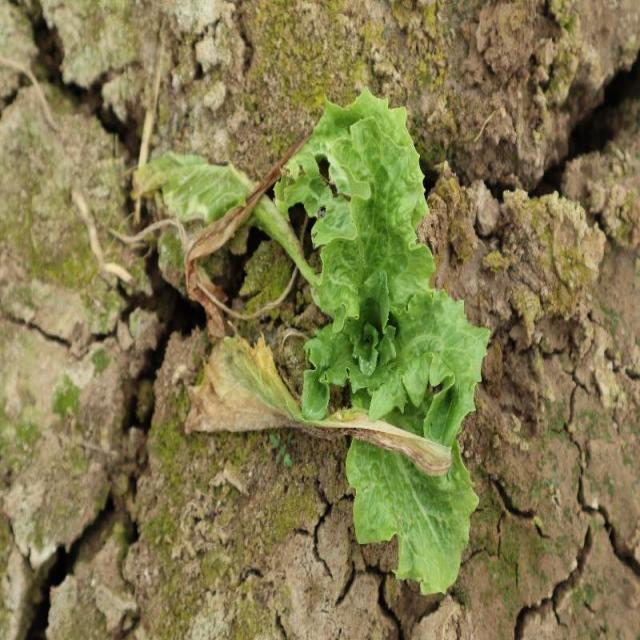crop: (273, 85, 492, 596)
